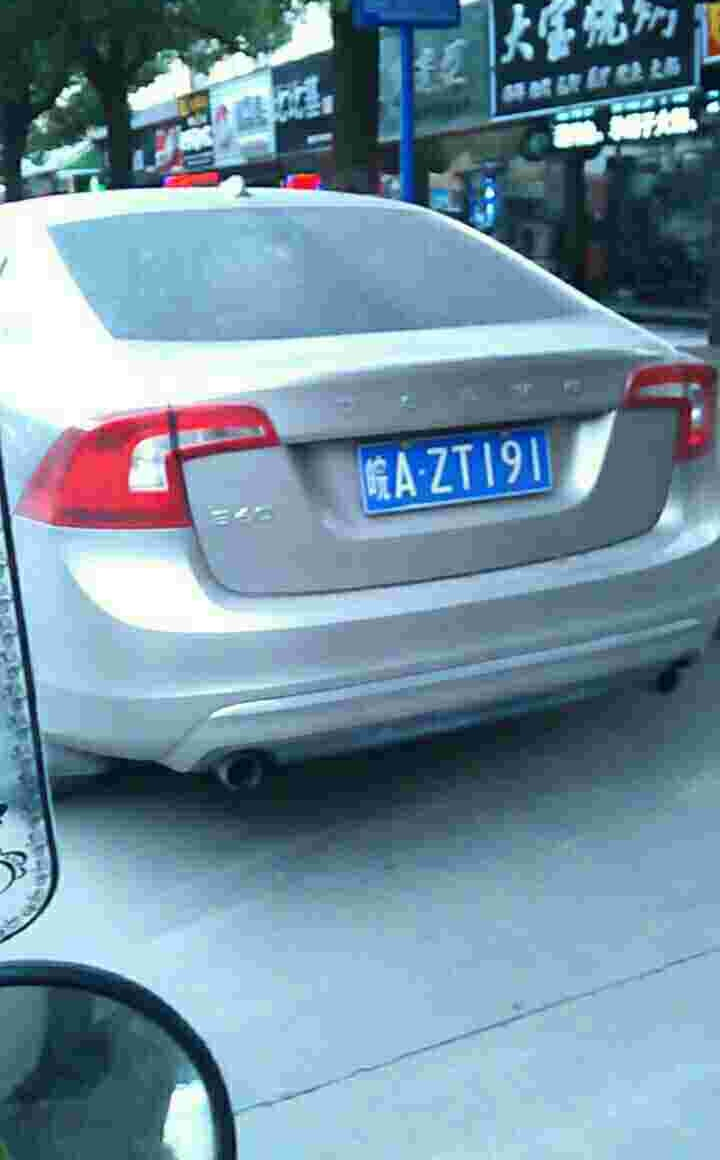plate: (363, 419, 558, 516)
